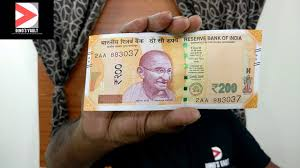twoHundred: (93, 40, 246, 96)
